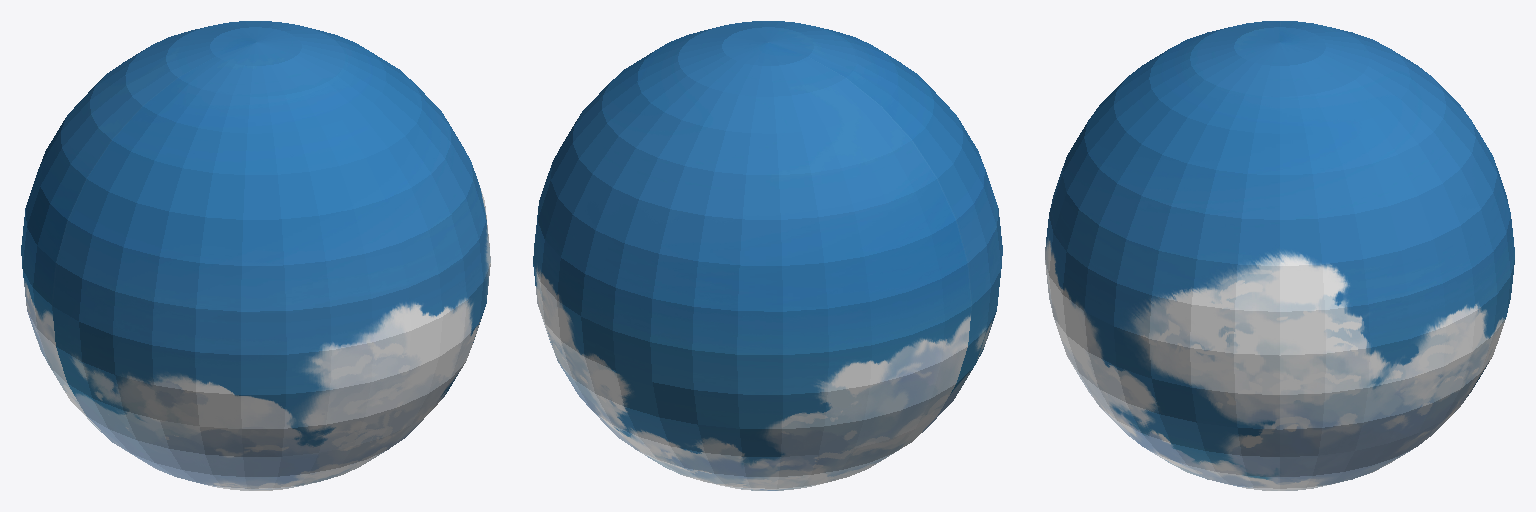
The picture shows the model from 3 angles: view 1: azimuth 30°, elevation 25°; view 2: azimuth 150°, elevation 25°; view 3: azimuth 270°, elevation 25°; orthographic projection.
Parts seen in each view (by area): view 1: 球; view 2: 球; view 3: 球.
Boxes of the visible parts, x1=… form: 球: x1=21, y1=21, x2=490, y2=490; 球: x1=533, y1=21, x2=1002, y2=490; 球: x1=1045, y1=21, x2=1514, y2=490.
Bounding box in the file's own units: 2 × 2 × 2.
1 materials, 1 textured.